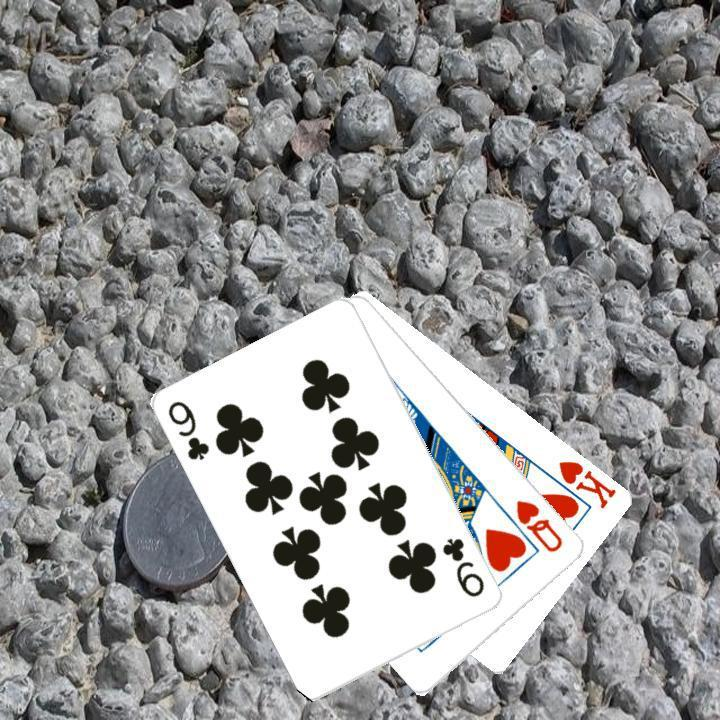9: (438, 533, 487, 600), (164, 396, 212, 463)
K: (554, 456, 619, 511)
Q: (512, 495, 566, 555)
